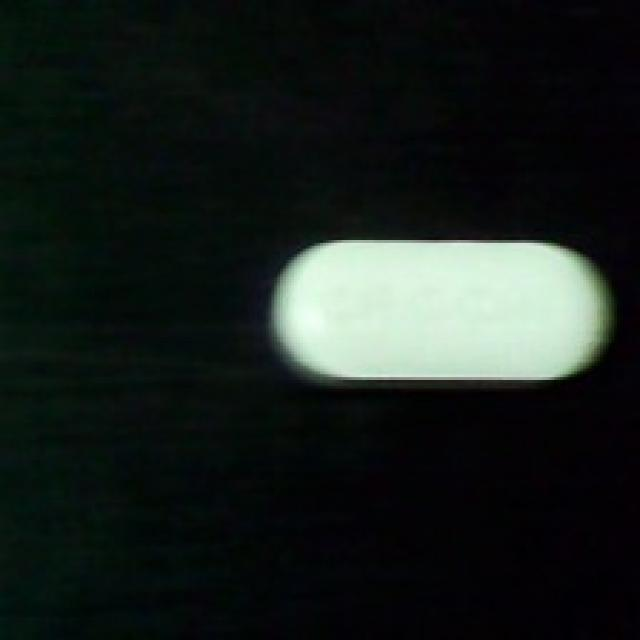no-defect: (263, 234, 620, 394)
